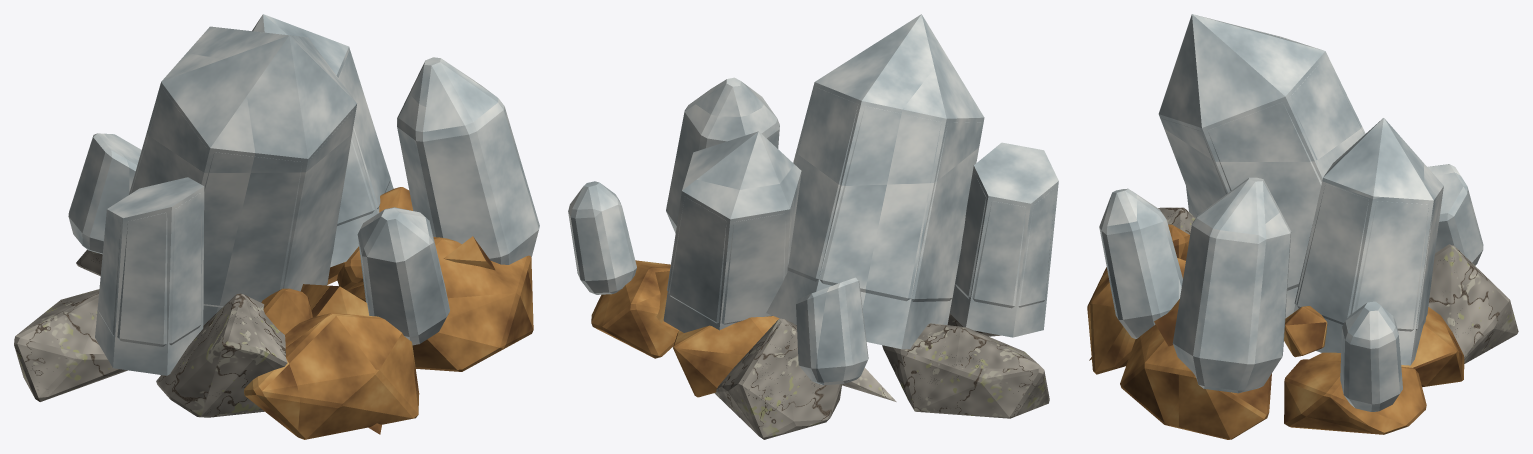
The model's file is deposit-2.glb.
3 views of the same model, side by side, from view 1: azimuth 30°, elevation 25°; view 2: azimuth 150°, elevation 25°; view 3: azimuth 270°, elevation 25° (orthographic). The views are drawn at different scales.
Visible parts, largest first — view 1: MNR-deposit-2-mesh0, MNR-deposit-2-mesh1; view 2: MNR-deposit-2-mesh0, MNR-deposit-2-mesh1; view 3: MNR-deposit-2-mesh0, MNR-deposit-2-mesh1.
Boxes of the visible parts, left/top/right/bottom form: MNR-deposit-2-mesh0: left=14, top=21, right=539, bottom=439; MNR-deposit-2-mesh1: left=95, top=14, right=495, bottom=434; MNR-deposit-2-mesh0: left=568, top=72, right=1055, bottom=439; MNR-deposit-2-mesh1: left=655, top=14, right=1058, bottom=401; MNR-deposit-2-mesh0: left=1087, top=21, right=1518, bottom=439; MNR-deposit-2-mesh1: left=1089, top=14, right=1443, bottom=365.
Bounding box in the file's own units: 0.6908 × 0.4791 × 0.5612.
3 materials, 3 textured.
